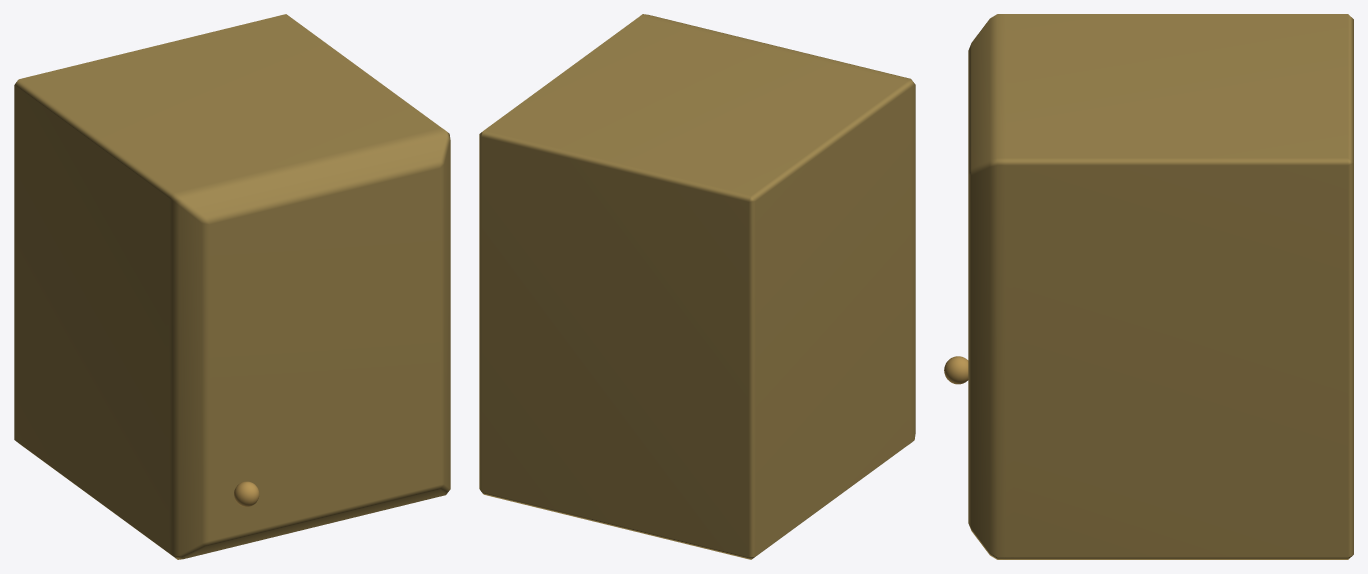
Rendered from TopCabinetLeftGeo.fbx.
The picture shows the model from 3 angles, left to right: view 1: azimuth 30°, elevation 25°; view 2: azimuth 150°, elevation 25°; view 3: azimuth 270°, elevation 25°; orthographic projection. The views are drawn at different scales.
Parts seen in each view (by area): view 1: TopCabinetLeftGeo; view 2: TopCabinetLeftGeo; view 3: TopCabinetLeftGeo.
Part boxes in pixels (x1,y1,x2,y2): TopCabinetLeftGeo: (14,14,450,559); TopCabinetLeftGeo: (479,14,915,559); TopCabinetLeftGeo: (944,14,1353,559).
Bounding box in the file's own units: 131 × 165 × 152.
